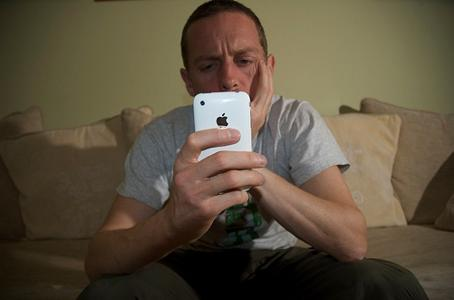person: (79, 2, 431, 300)
